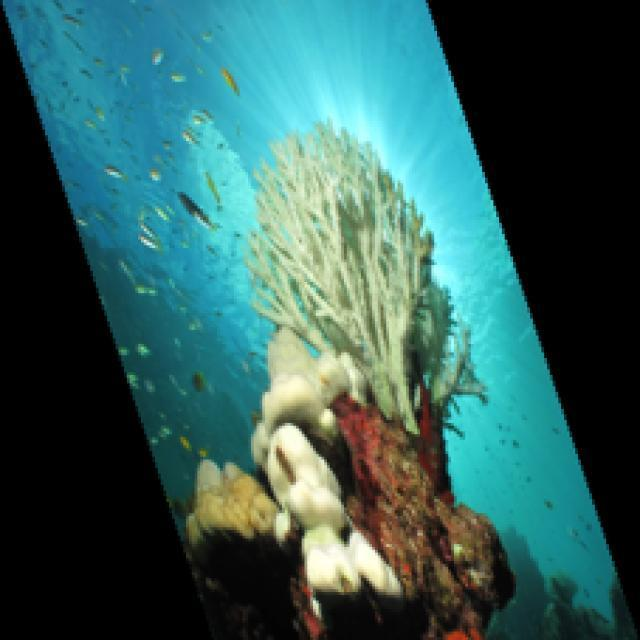Bleached: (247, 124, 482, 431), (253, 332, 366, 467), (265, 425, 347, 530), (305, 526, 406, 600)
